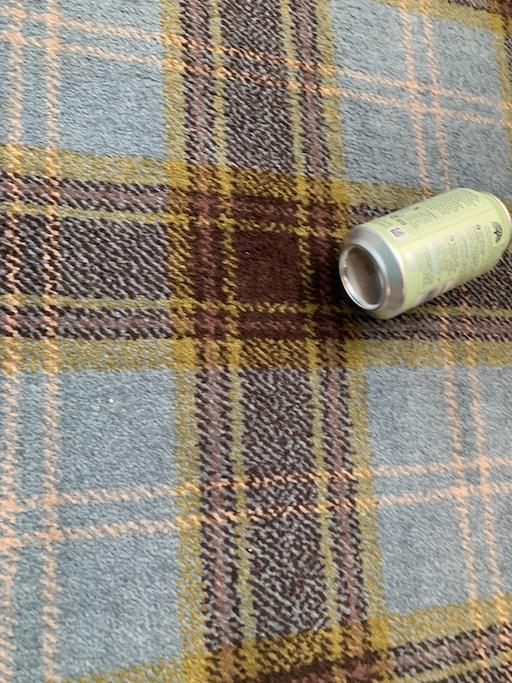Aluminum can: (326, 151, 512, 339)
